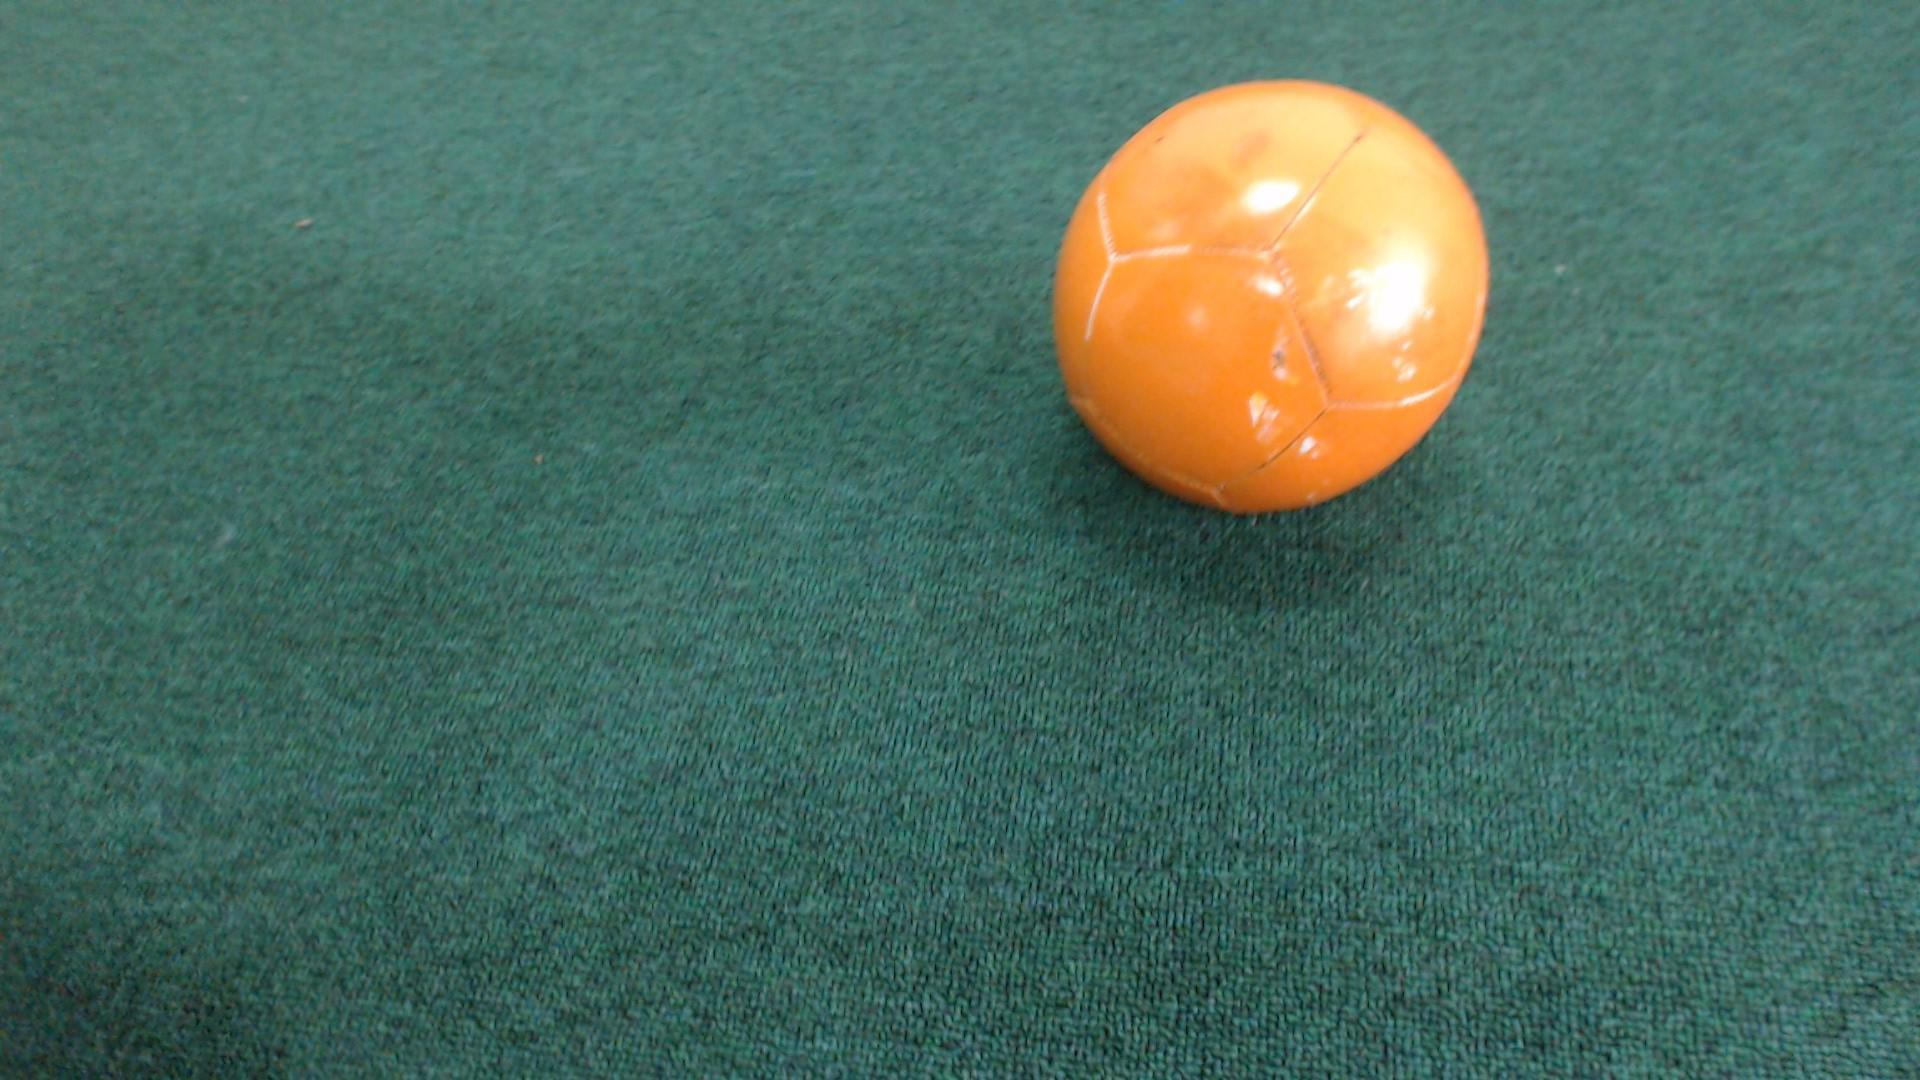bola: (1011, 61, 1520, 545)
